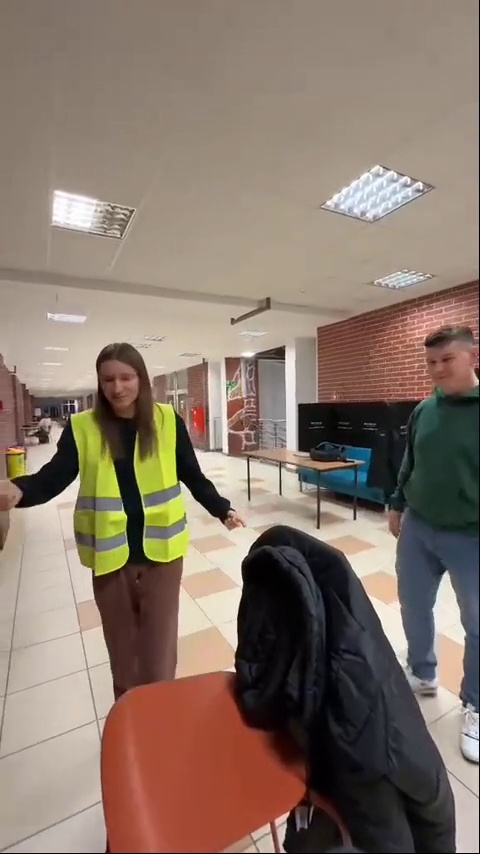no vest: (383, 323, 480, 777)
vest: (63, 337, 217, 687)
